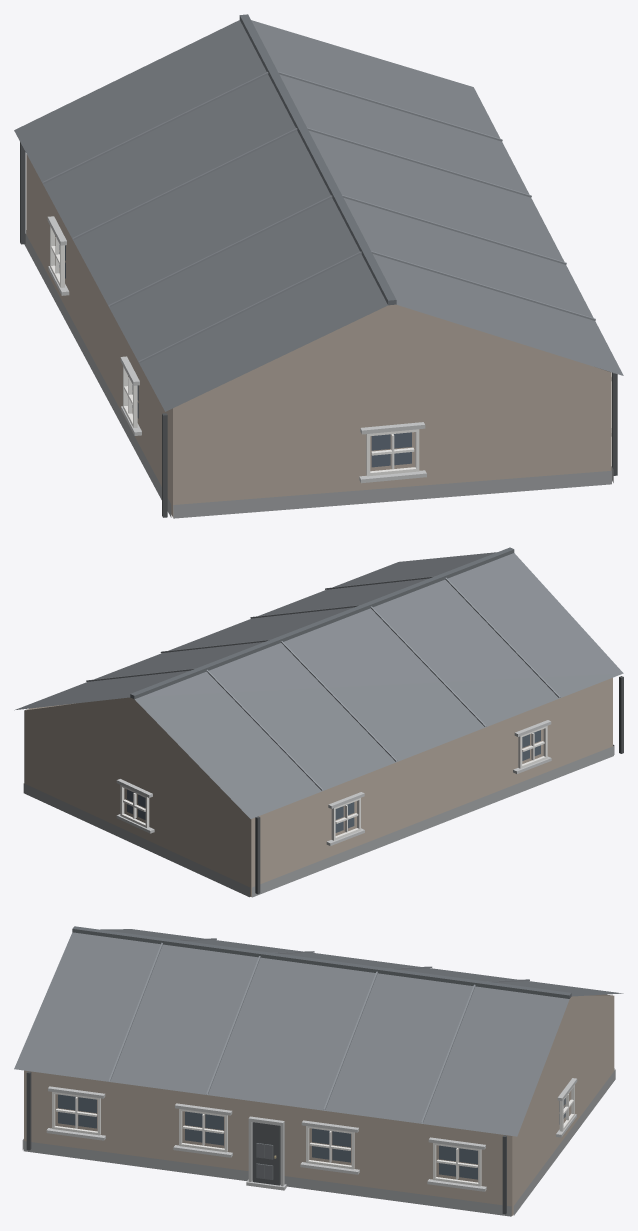
3 renders of one model, top to bottom at view 1: azimuth 30°, elevation 25°; view 2: azimuth 150°, elevation 25°; view 3: azimuth 270°, elevation 25°, orthographic. The views are drawn at different scales.
Parts seen in each view (by area): view 1: slate, harl_brown, plinth, slate_lt, slate_dk, frame, stone_band, pipe; view 2: slate, harl_brown, plinth, slate_dk, slate_lt, frame, stone_band, pipe; view 3: slate, harl_brown, plinth, stone_band, frame, slate_dk, slate_lt, door_dark, pipe, door_dark_p.
Boxes of the visible parts, <box> form: slate: <box>14,20,623,411</box>; harl_brown: <box>26,154,611,517</box>; plinth: <box>24,230,613,518</box>; slate_lt: <box>42,71,595,362</box>; slate_dk: <box>239,14,396,305</box>; frame: <box>50,226,419,476</box>; stone_band: <box>47,216,611,483</box>; pipe: <box>20,142,617,517</box>; slate: <box>14,552,623,818</box>; harl_brown: <box>24,678,612,896</box>; plinth: <box>23,744,614,897</box>; slate_dk: <box>130,547,514,699</box>; slate_lt: <box>86,576,560,790</box>; frame: <box>120,726,547,840</box>; stone_band: <box>116,720,551,845</box>; pipe: <box>24,676,623,894</box>; slate: <box>14,929,623,1136</box>; harl_brown: <box>24,994,614,1215</box>; plinth: <box>22,1068,615,1216</box>; stone_band: <box>46,1078,577,1191</box>; frame: <box>52,1085,574,1186</box>; slate_dk: <box>72,926,571,998</box>; slate_lt: <box>108,938,529,1123</box>; door_dark: <box>252,1122,280,1185</box>; pipe: <box>26,1071,506,1214</box>; door_dark_p: <box>256,1143,273,1179</box>.
Size of the model in its own units: 15.22 by 5.3 by 18.85.
